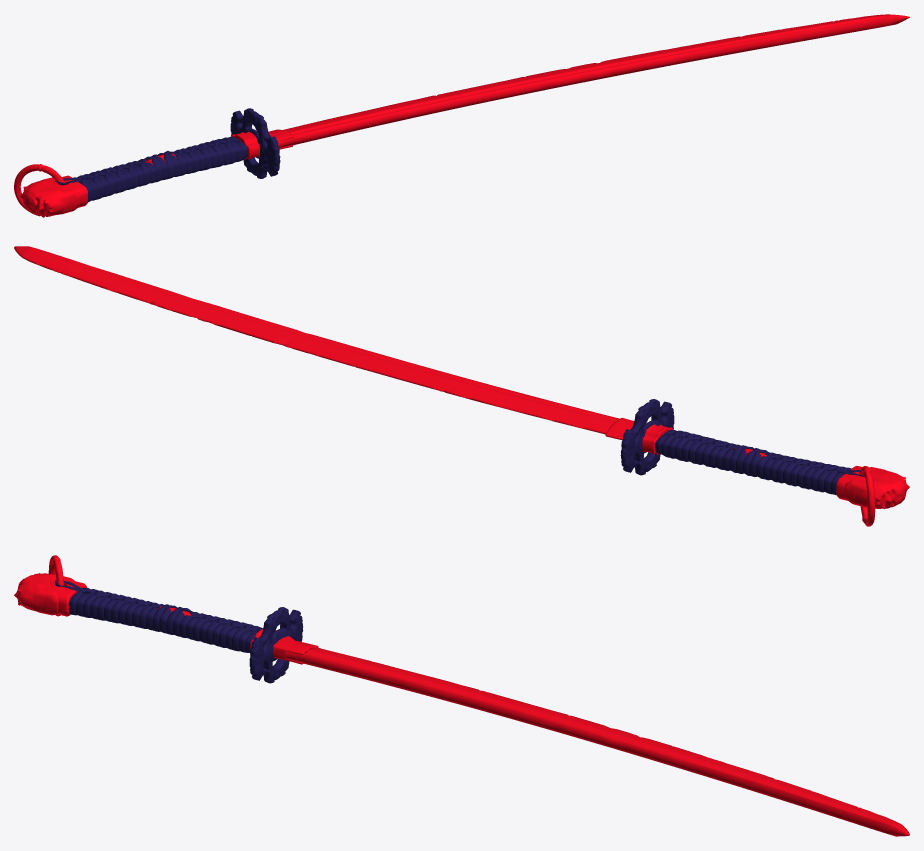
File: SM_Katana.fbx
The picture shows the model from 3 angles, top to bottom: view 1: azimuth 30°, elevation 25°; view 2: azimuth 150°, elevation 25°; view 3: azimuth 330°, elevation 25°; orthographic projection. The views are drawn at different scales.
Parts seen in each view (by area): view 1: UV_Nagasa_low, UV_Tsukamaki_2_low, UV_Tsukamaki_low, UV_Tsuka_low, UV_Tsuba_low, UV_Ring_low; view 2: UV_Nagasa_low, UV_Tsukamaki_2_low, UV_Tsukamaki_low, UV_Tsuba_low, UV_Tsuka_low, UV_Ring_low; view 3: UV_Nagasa_low, UV_Tsukamaki_2_low, UV_Tsukamaki_low, UV_Tsuba_low, UV_Tsuka_low, UV_Habaki_low.
Part boxes in pixels (x1,y1,x2,y2): UV_Nagasa_low: (278, 14, 909, 147); UV_Tsukamaki_2_low: (77, 137, 247, 202); UV_Tsukamaki_low: (73, 136, 242, 200); UV_Tsuka_low: (20, 175, 87, 215); UV_Tsuba_low: (230, 108, 280, 178); UV_Ring_low: (14, 164, 65, 217); UV_Nagasa_low: (14, 246, 619, 434); UV_Tsukamaki_2_low: (661, 429, 851, 494); UV_Tsukamaki_low: (655, 430, 845, 495); UV_Tsuba_low: (620, 399, 674, 475); UV_Tsuka_low: (836, 466, 909, 509); UV_Ring_low: (860, 466, 875, 526); UV_Nagasa_low: (285, 647, 909, 836); UV_Tsukamaki_2_low: (69, 589, 260, 652); UV_Tsukamaki_low: (76, 587, 263, 652); UV_Tsuba_low: (249, 607, 303, 683); UV_Tsuka_low: (14, 573, 87, 616); UV_Habaki_low: (273, 636, 318, 664).
Bounding box in the file's own units: 118 × 8.28 × 13.74.
